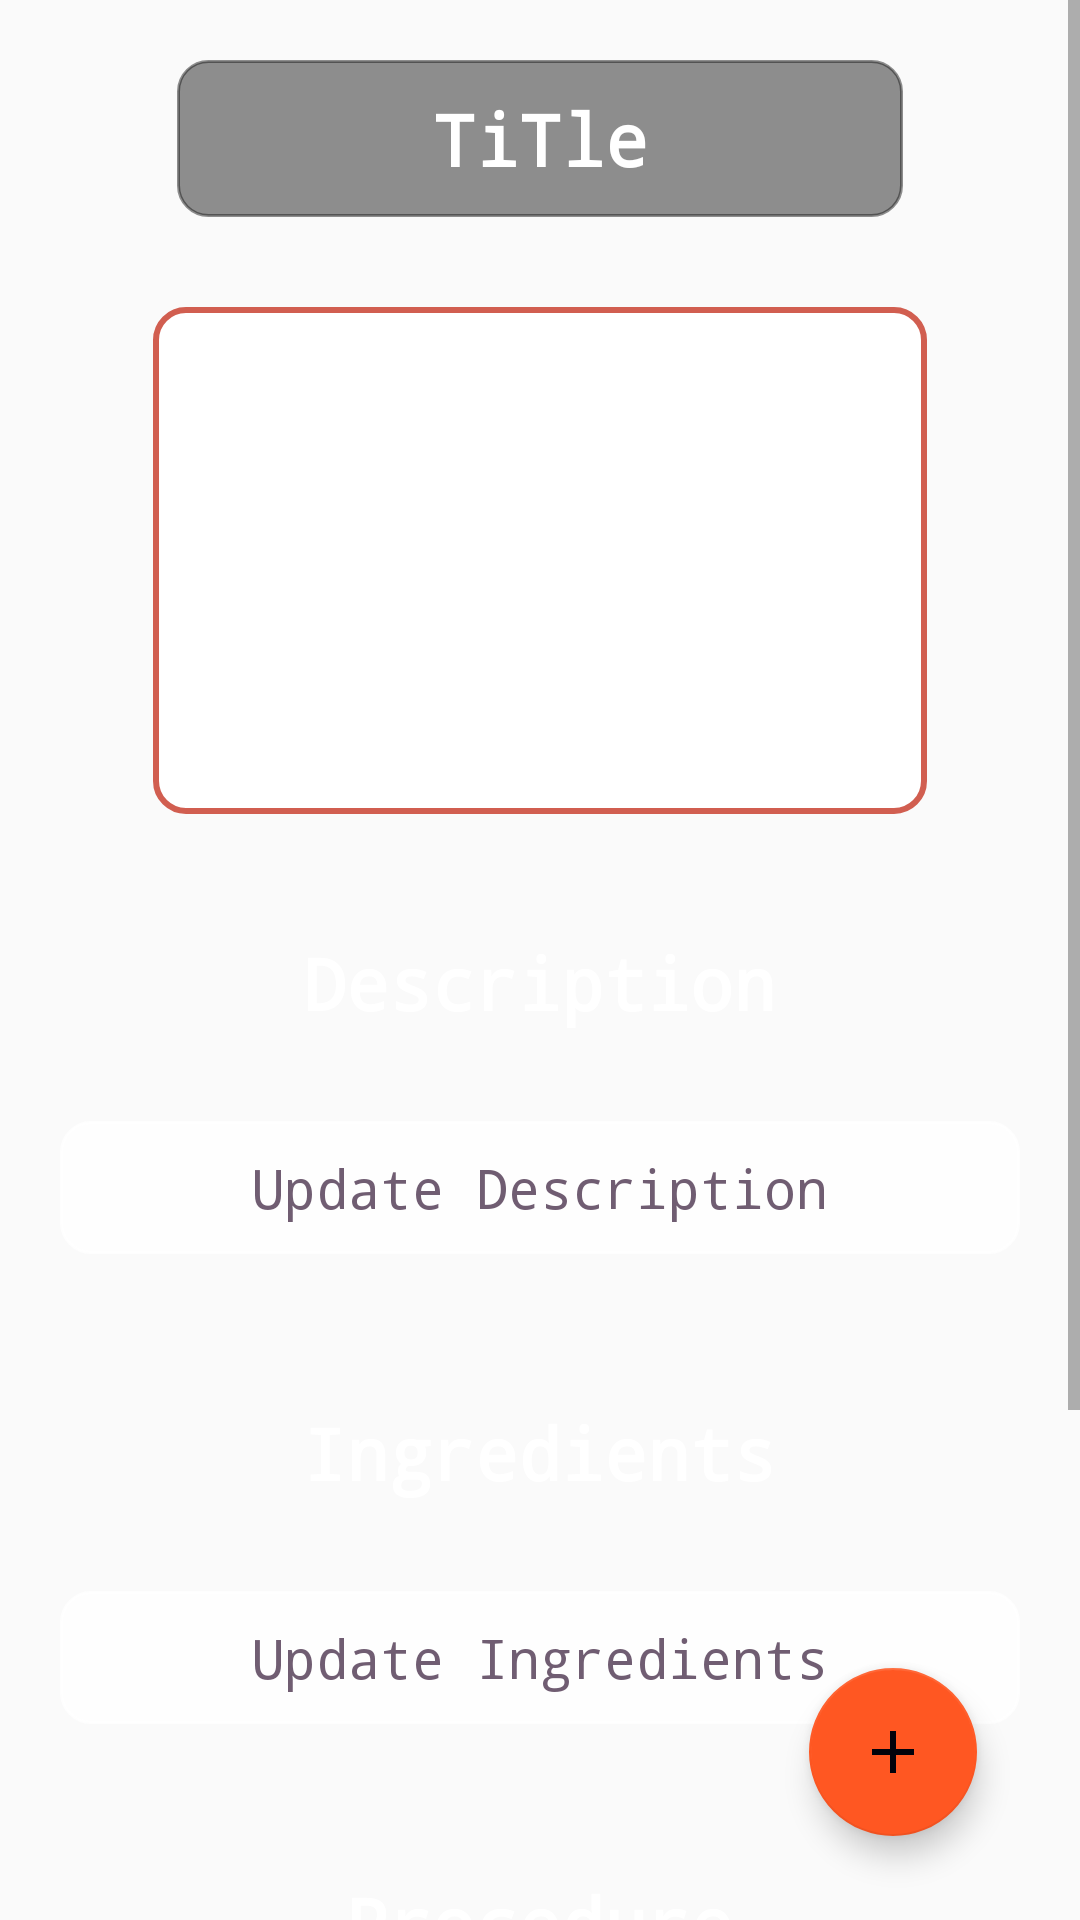

Icons on this 1080 x 1920 Android screen, each with its box as (x1, y1, x2, y2):
add: (809, 1668, 977, 1836)
